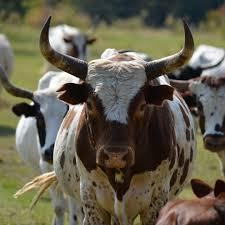cow: (53, 58, 195, 225), (16, 72, 79, 171), (188, 75, 225, 153), (49, 25, 98, 61)
